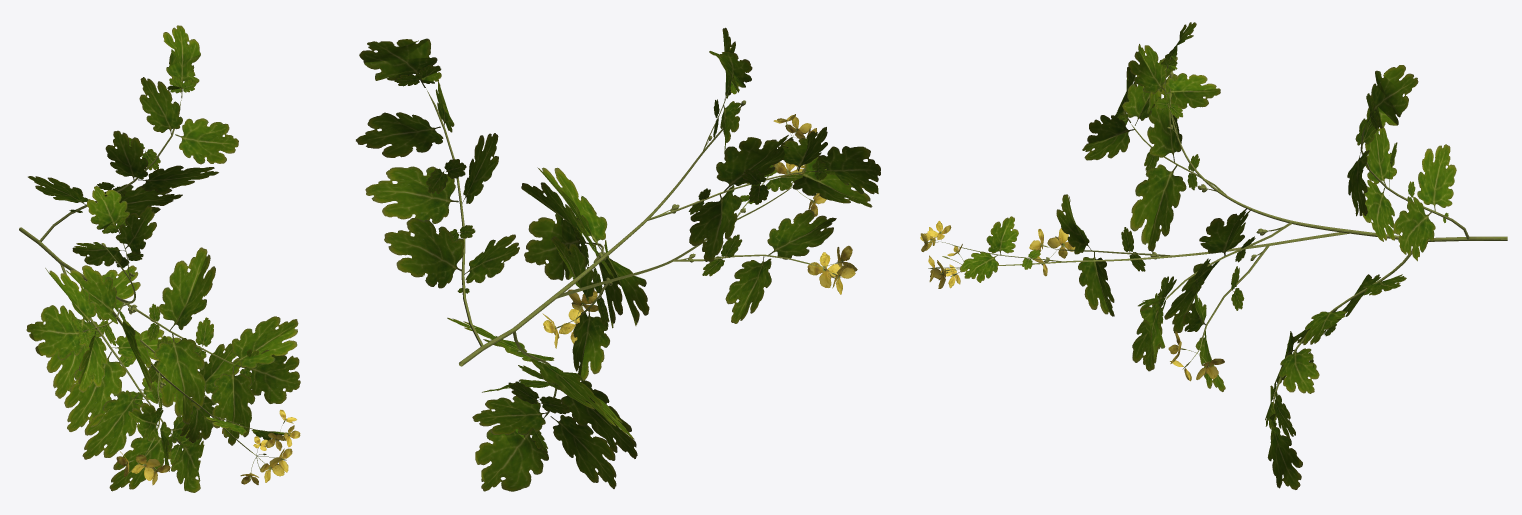
Rendered from greater_celandine_1.obj.
The picture shows the model from 3 angles, left to right: view 1: azimuth 30°, elevation 25°; view 2: azimuth 150°, elevation 25°; view 3: azimuth 270°, elevation 25°; orthographic projection. The views are drawn at different scales.
Visible parts, largest first — view 1: GC06_1; view 2: GC06_1; view 3: GC06_1.
Boxes of the visible parts, x1,y1,x2,y2 form: GC06_1: (19, 25, 300, 492); GC06_1: (356, 27, 880, 491); GC06_1: (920, 22, 1507, 489).
Bounding box in the file's own units: 0.2791 × 0.3316 × 0.3905.
Materials: 5 (5 with a texture image).
